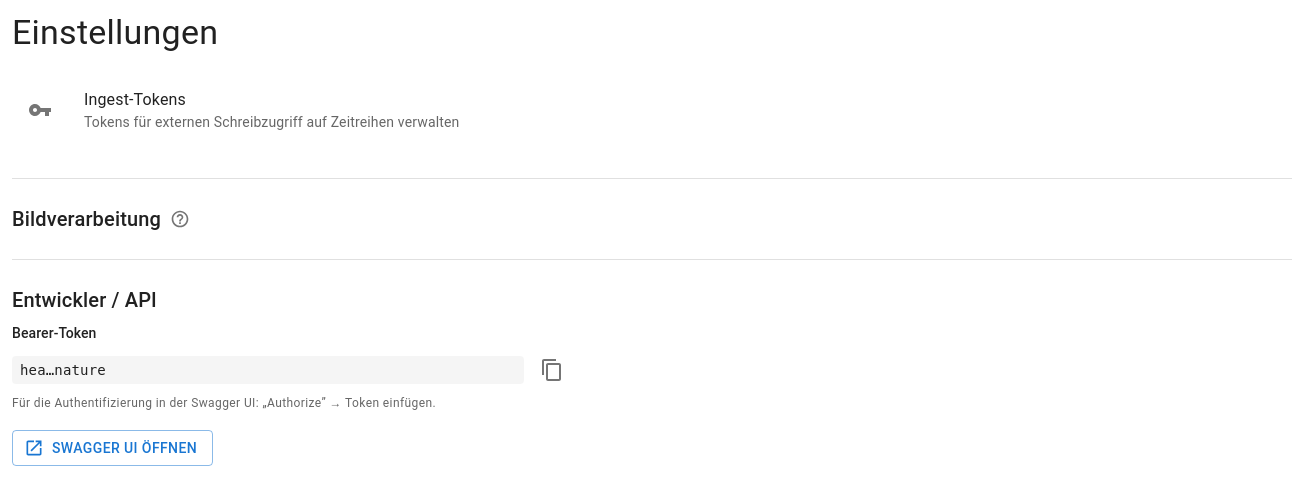
Test: SettingsPage — Entwickler / API › kopiert den vollständigen Token und zeigt Feedback
Step 1. Click the button named "Token kopieren" → (552, 370), box left=532, top=350, right=572, bottom=390
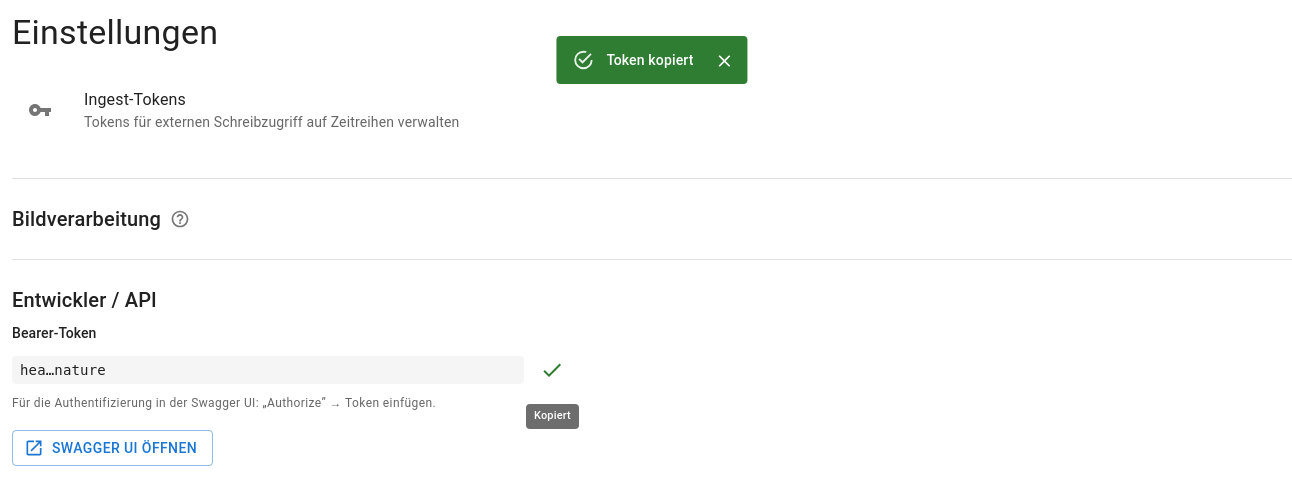
Now the message reads "Token kopiert", box left=606, top=52, right=694, bottom=68
